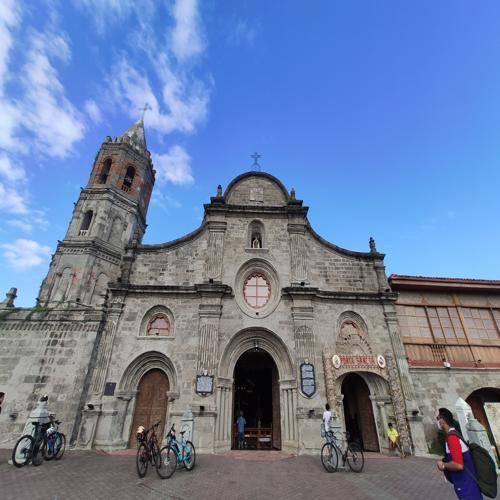Barasoain Church: (16, 102, 412, 468)
